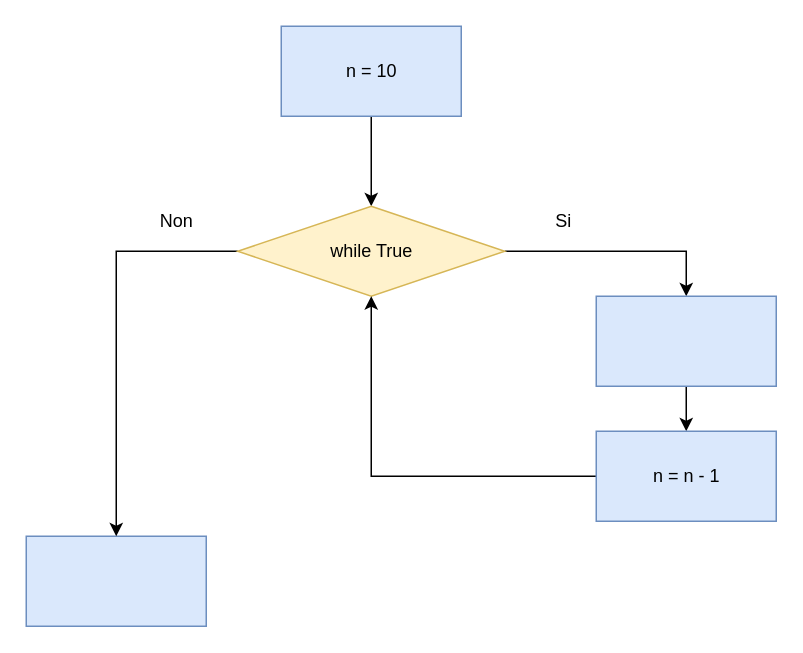
The diagram is 803 pixels wide and 653 high, and some of its shapes have lost their labels. Each missing label, with the centre of its shape:
print (n, end=' '): (x=685, y=340)
print("Terminado!"): (x=115, y=580)
